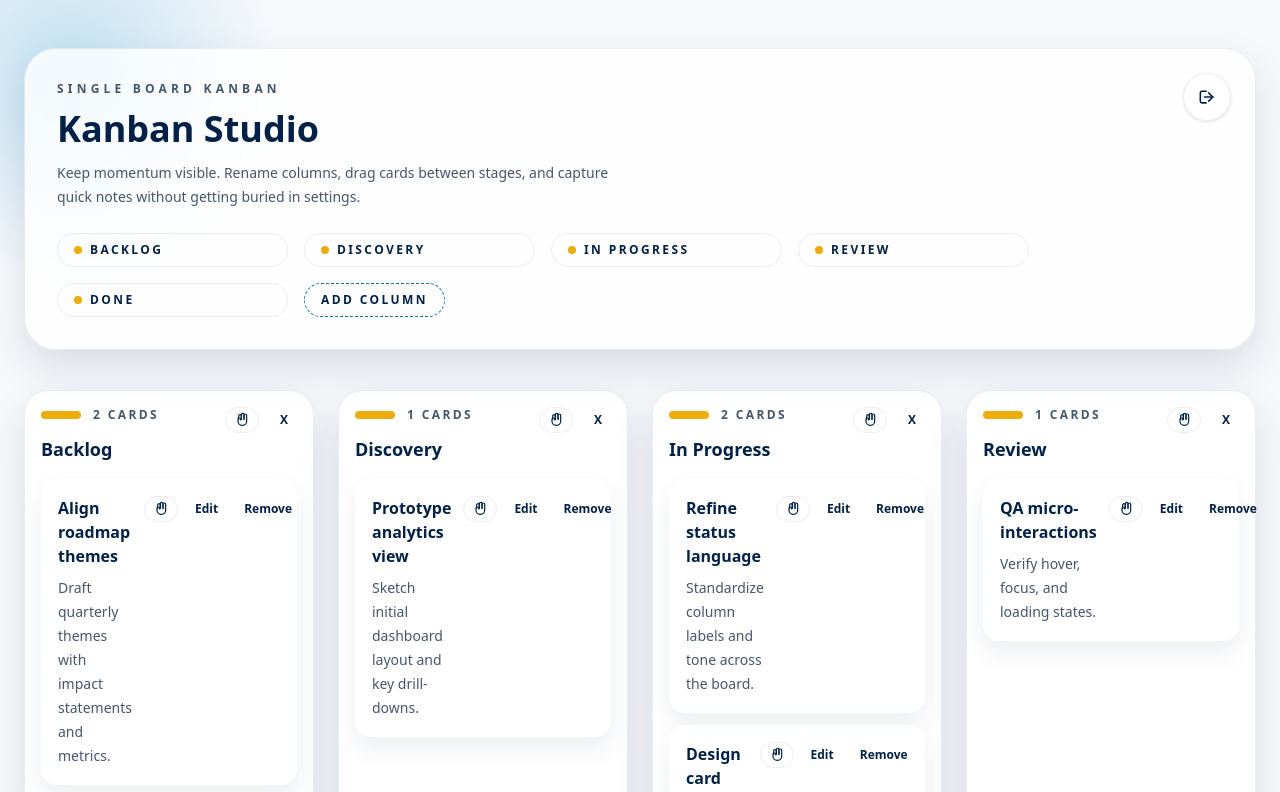
Test: AppShell › logs out after an authenticated session
Click the button with test id "logout-button". click: (1207, 97)
box: [1183,73,1231,121]
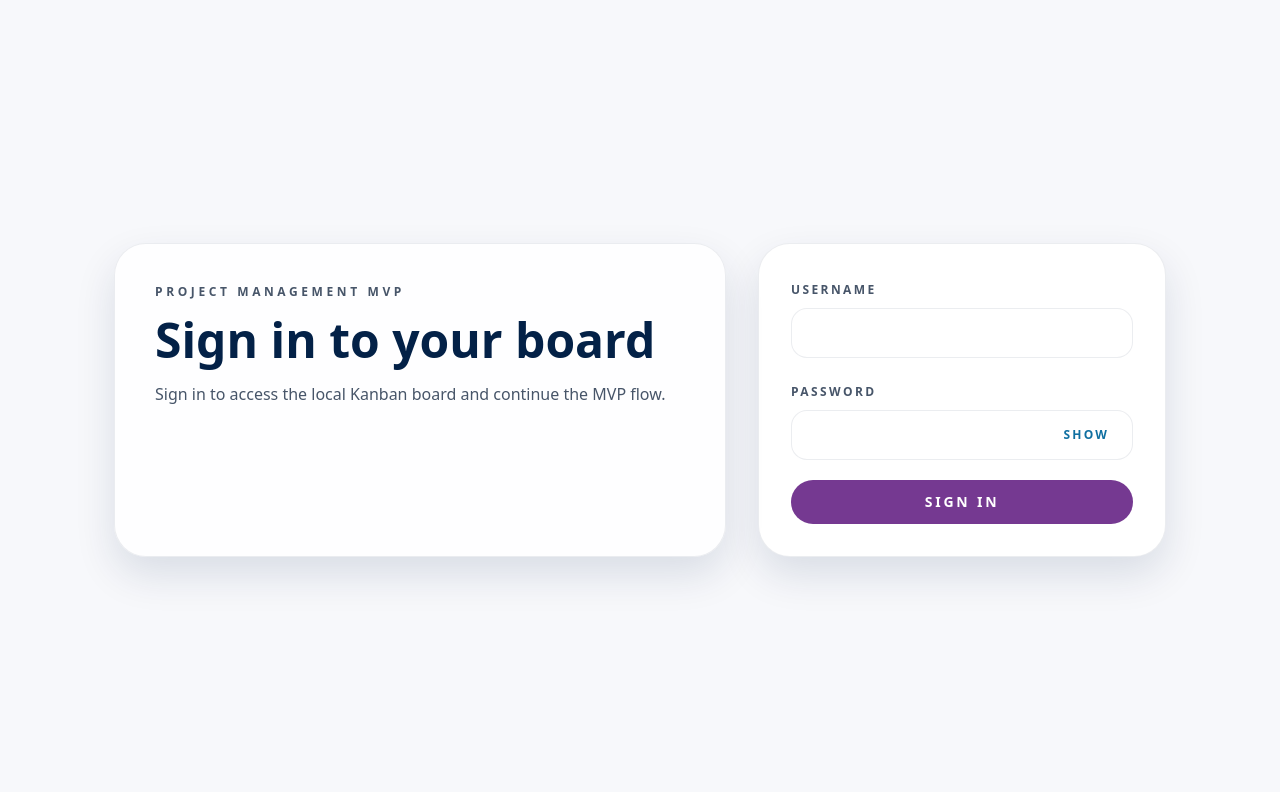
expect the heading "Sign in to your board" is shown: met, box [155,316,685,364]
